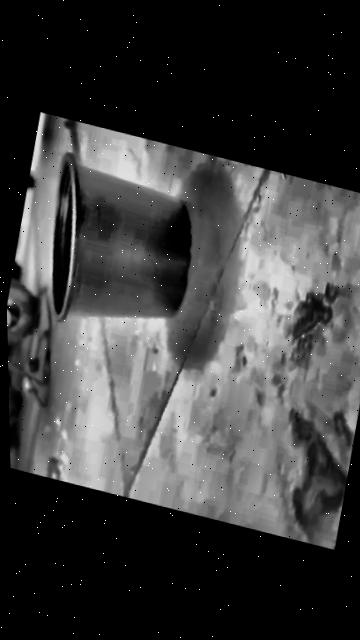pot: (29, 148, 207, 355)
